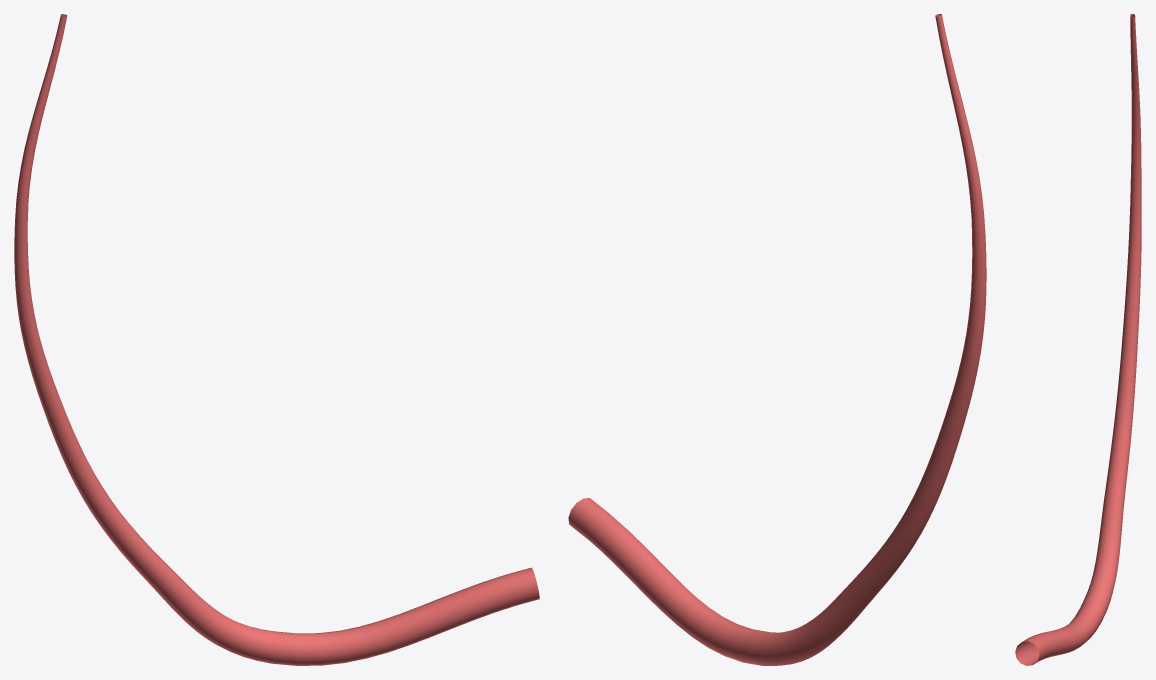
The model's file is Accessory_branch_middle_meningeal_artery_right.glb.
3 views of the same model, side by side, from view 1: azimuth 30°, elevation 25°; view 2: azimuth 150°, elevation 25°; view 3: azimuth 270°, elevation 25° (orthographic). The views are drawn at different scales.
Visible parts, largest first — view 1: Accessory_branch_of_middle_meningeal_artery.r_BezierCurve.09; view 2: Accessory_branch_of_middle_meningeal_artery.r_BezierCurve.09; view 3: Accessory_branch_of_middle_meningeal_artery.r_BezierCurve.09.
Part boxes in pixels (x1=…): Accessory_branch_of_middle_meningeal_artery.r_BezierCurve.09: x1=14, y1=14, x2=539, y2=665; Accessory_branch_of_middle_meningeal_artery.r_BezierCurve.09: x1=568, y1=14, x2=986, y2=665; Accessory_branch_of_middle_meningeal_artery.r_BezierCurve.09: x1=1015, y1=14, x2=1141, y2=665.
Size of the model in its own units: 0.0161 by 0.023 by 0.00494.
